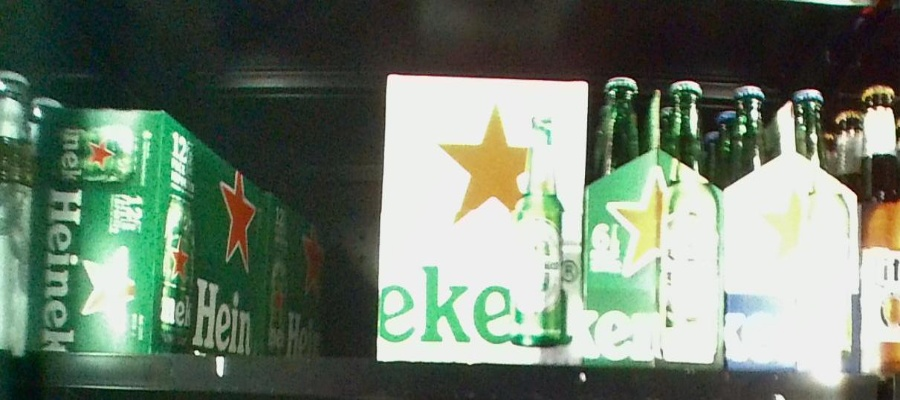bottle: (381, 69, 588, 365), (722, 80, 864, 370), (591, 74, 720, 369), (36, 105, 180, 361)
